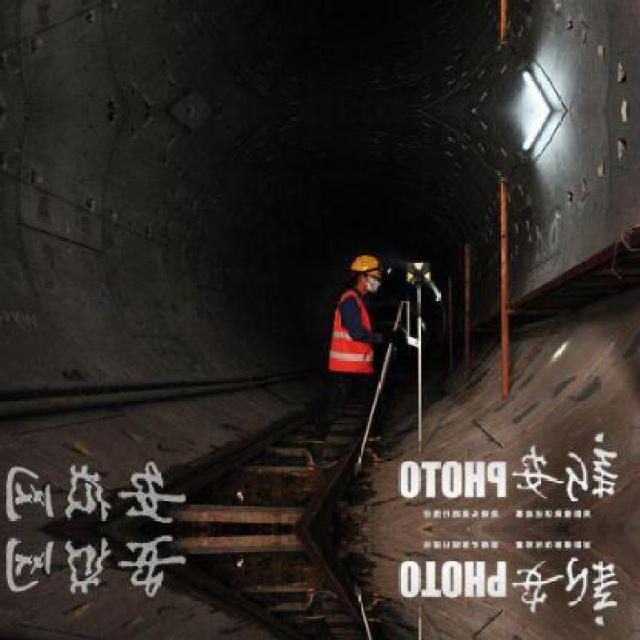Reflective-Jacket: (322, 288, 382, 383)
Safety-Helmet: (340, 249, 388, 285)
